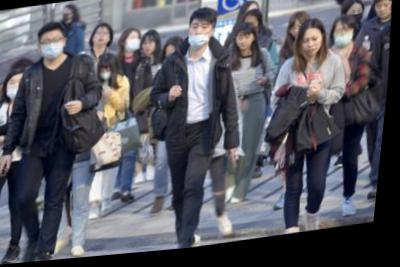NONE: (302, 37, 325, 63), (92, 28, 113, 50), (237, 35, 258, 57), (375, 8, 394, 29), (289, 26, 306, 45), (143, 41, 159, 59)
OK: (42, 35, 67, 62), (346, 12, 366, 35), (124, 36, 144, 58), (99, 67, 115, 85), (62, 7, 75, 23)
WRONG: (189, 26, 215, 52), (7, 76, 28, 101), (334, 31, 355, 55)
